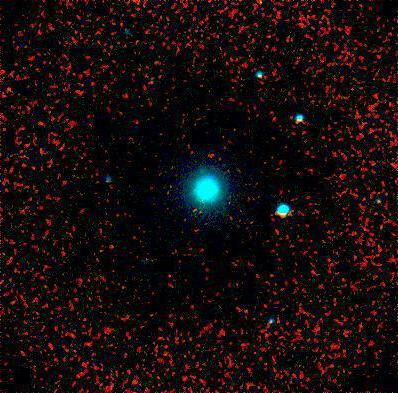star: (199, 160, 229, 190)
